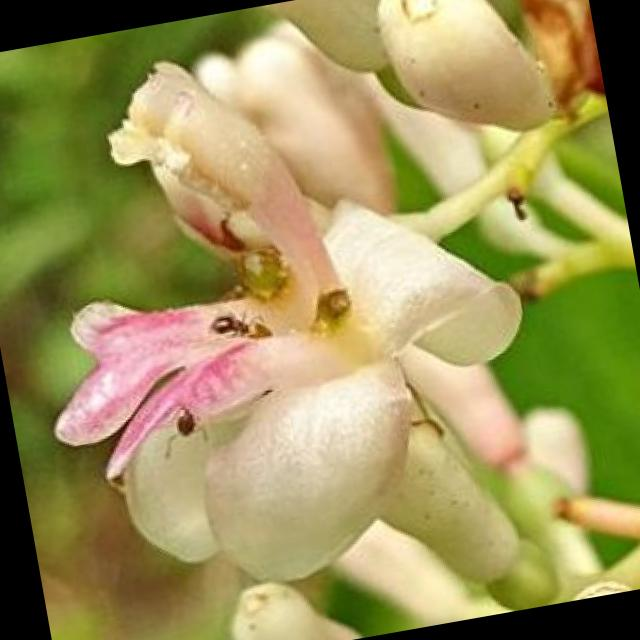Aquatic-Ginger: (0, 0, 630, 617)
